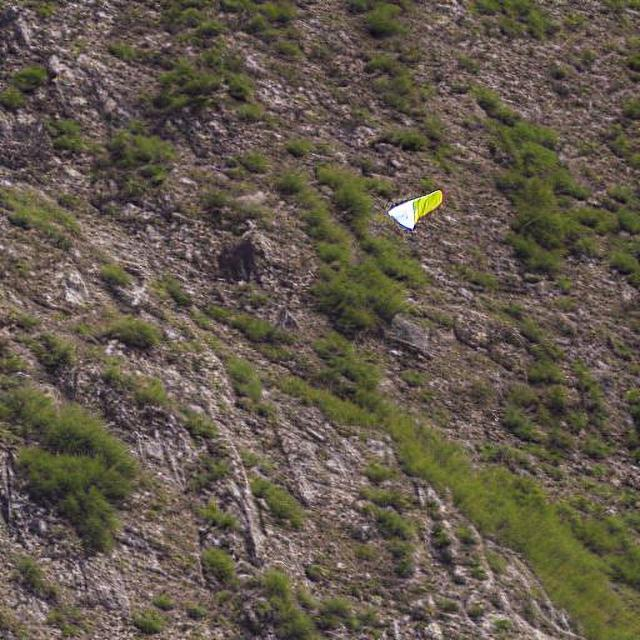floating object: (382, 188, 442, 232)
